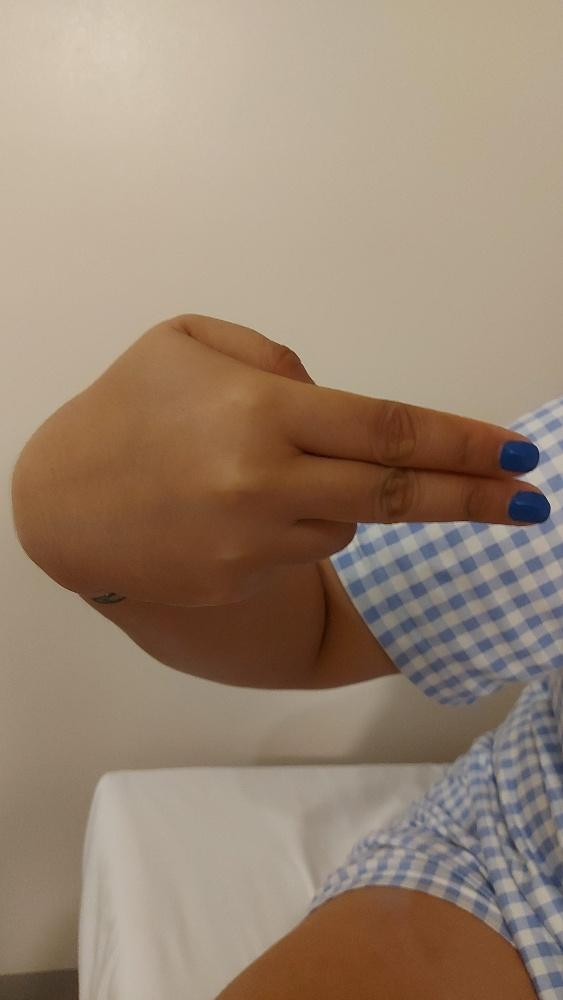h: (11, 311, 550, 607)
